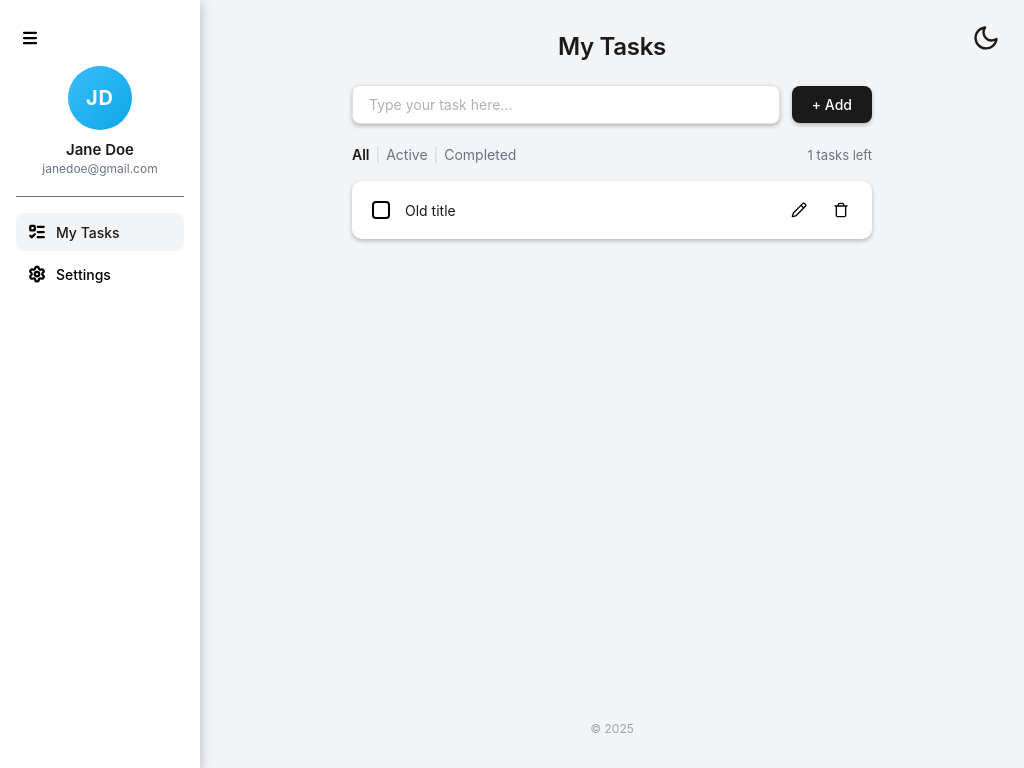
TasksPage интеграционные сценарии › Редактирование: Edit → меняем текст → Save → новый текст виден
This screenshot has width=1024, height=768.
Expected: the text "Old title" is shown, top-left (405, 202), bottom-right (456, 218)
Click the button named "Edit" at (799, 210), box top-left (784, 195), bottom-right (814, 225)
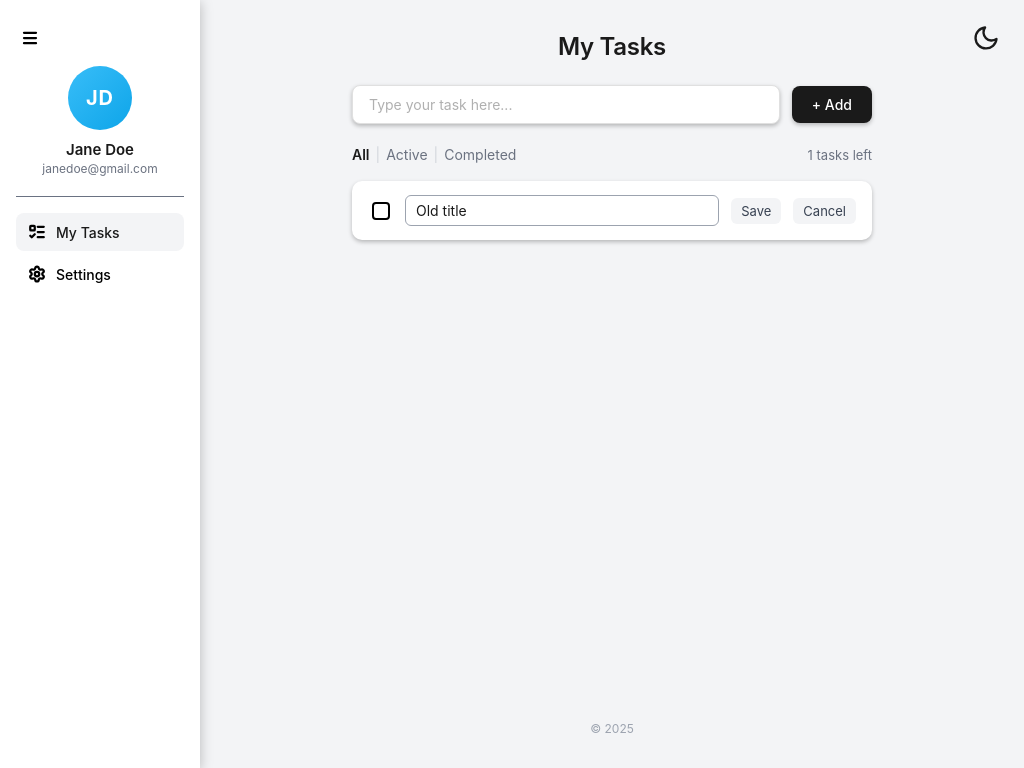
Replace the text in the field named "edit task" with "New title" at (562, 210), box top-left (405, 195), bottom-right (719, 226)
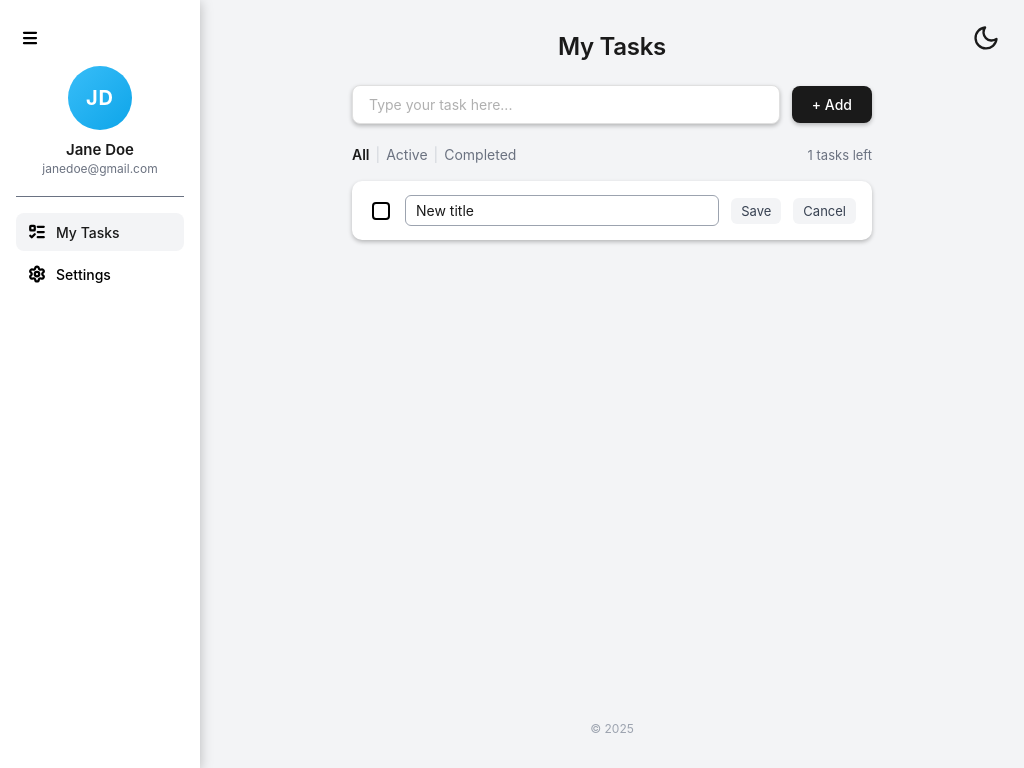
Click the button "Save" at (756, 210), box top-left (731, 198), bottom-right (781, 224)
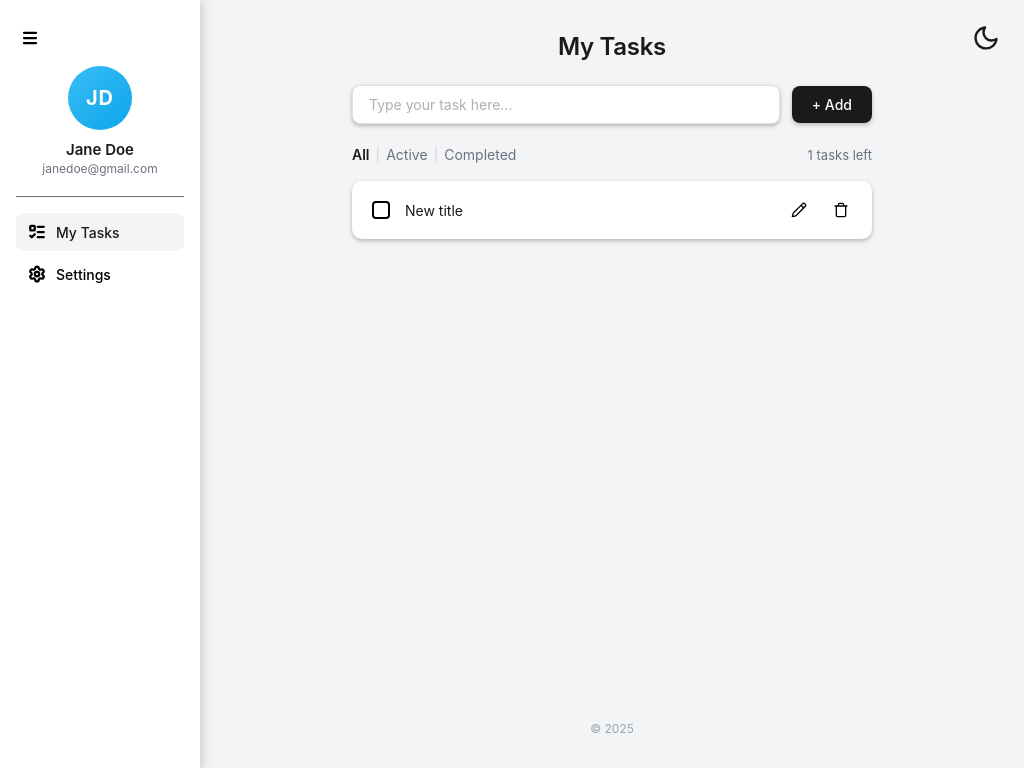
Expected: the text "Old title" is not shown
Expected: the text "New title" is shown, top-left (405, 202), bottom-right (463, 218)
